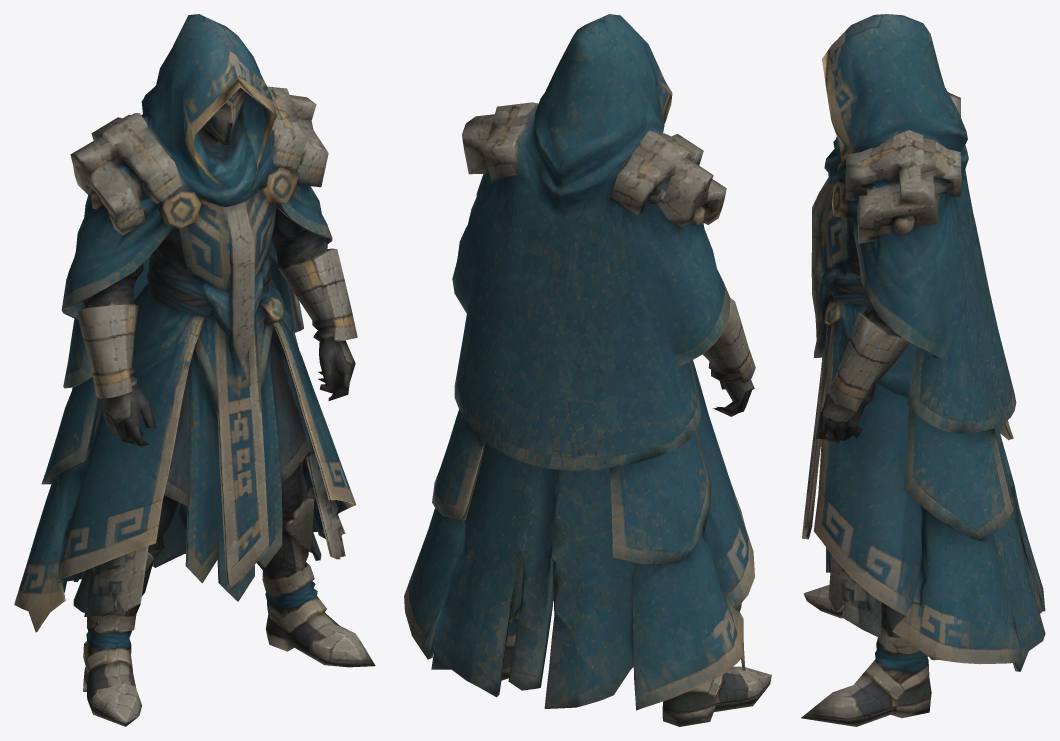
File: labyrinth-shaper.glb
The picture shows the model from 3 angles, left to right: view 1: azimuth 30°, elevation 25°; view 2: azimuth 150°, elevation 25°; view 3: azimuth 270°, elevation 25°; orthographic projection. The views are drawn at different scales.
Parts seen in each view (by area): view 1: tripo_node_73976527-4c5e-4146-b40c-c3962bd3cfb6; view 2: tripo_node_73976527-4c5e-4146-b40c-c3962bd3cfb6; view 3: tripo_node_73976527-4c5e-4146-b40c-c3962bd3cfb6.
Boxes of the visible parts, <box> form: tripo_node_73976527-4c5e-4146-b40c-c3962bd3cfb6: <box>14,14,375,726</box>; tripo_node_73976527-4c5e-4146-b40c-c3962bd3cfb6: <box>404,14,771,726</box>; tripo_node_73976527-4c5e-4146-b40c-c3962bd3cfb6: <box>801,14,1045,726</box>.
Size of the model in its own units: 0.5136 by 1 by 0.342.
1 material, 1 textured.
